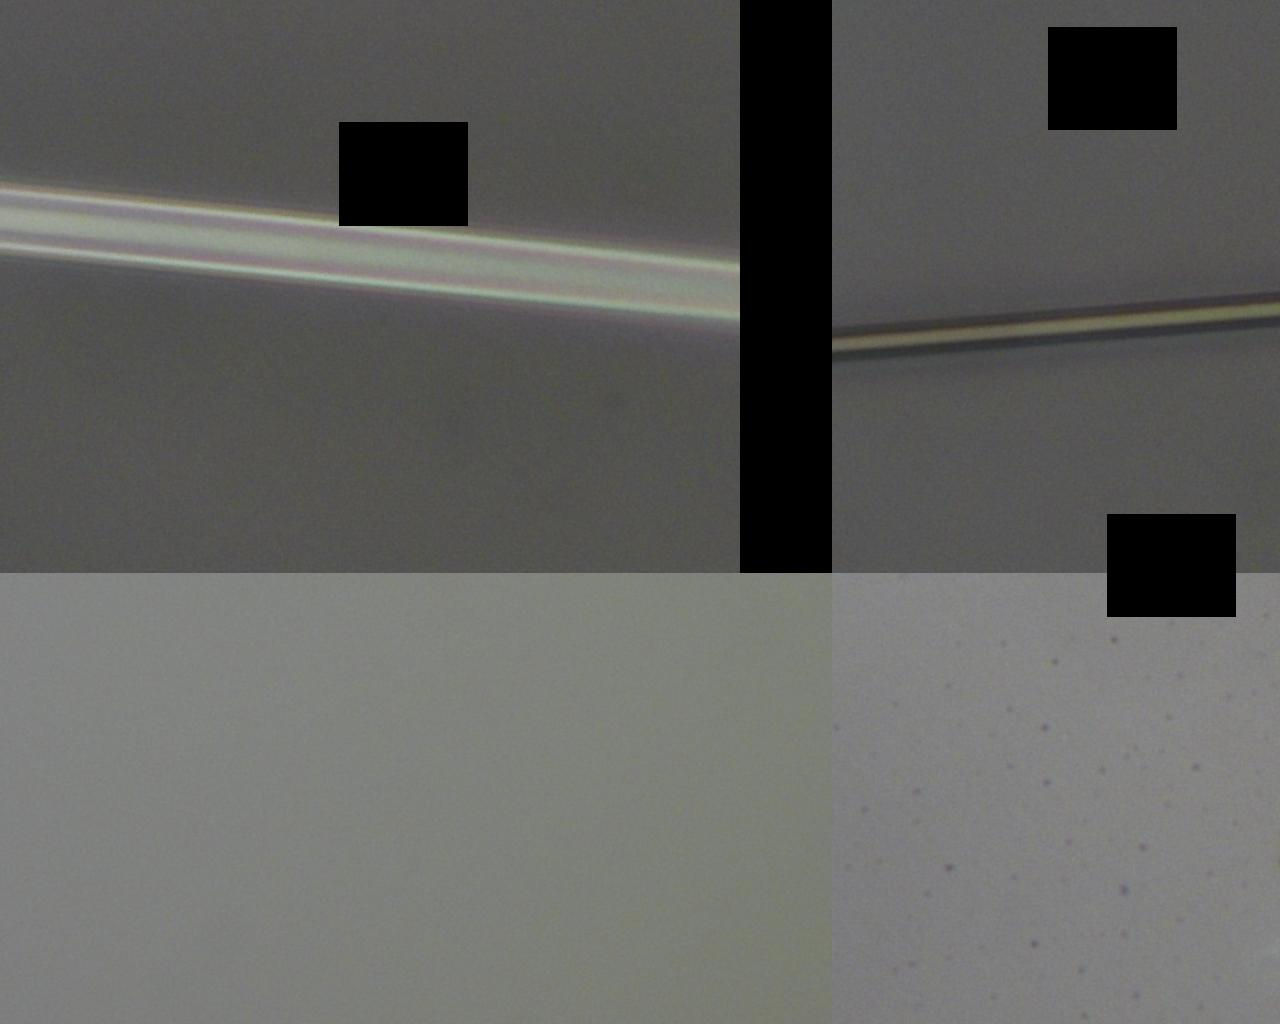fiber: (0, 522, 539, 1024), (1004, 522, 1074, 1024)
